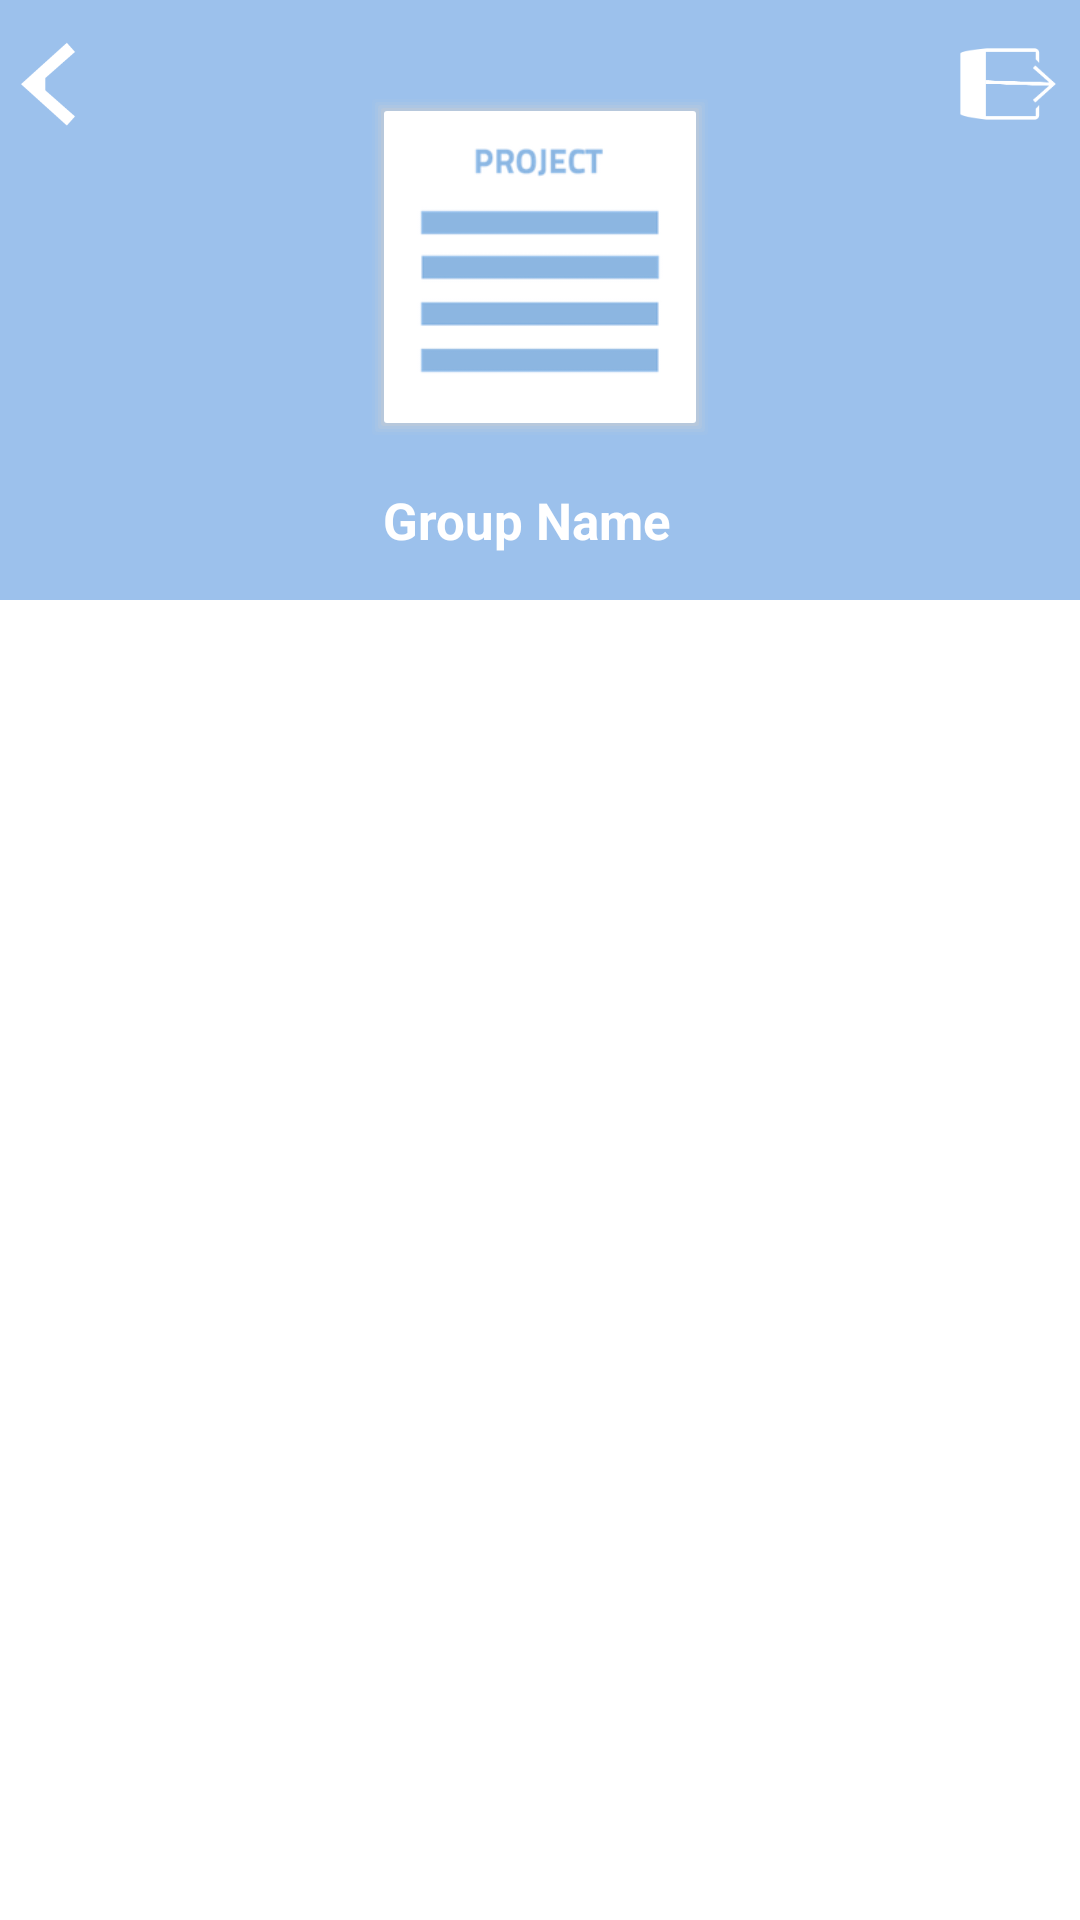

Where to tap for icons on this 1080 × 1920 app screen, as (x,y):
back: (48,84)
